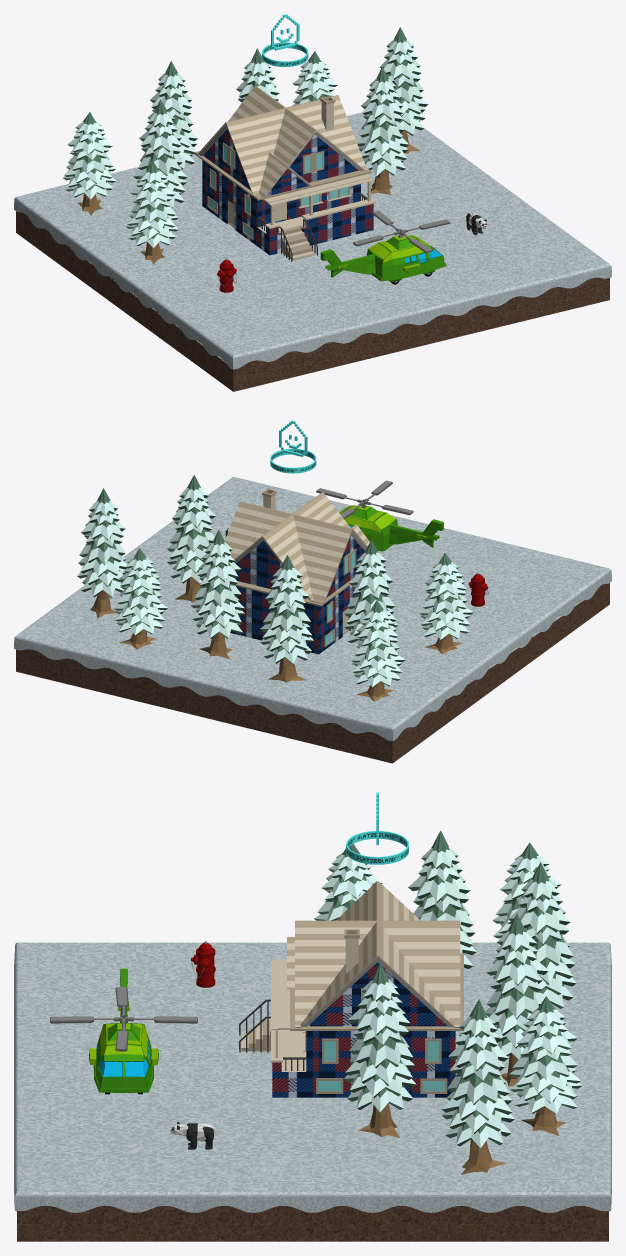
The picture shows the model from 3 angles, top to bottom: view 1: azimuth 30°, elevation 25°; view 2: azimuth 150°, elevation 25°; view 3: azimuth 270°, elevation 25°; orthographic projection. The views are drawn at different scales.
Parts seen in each view (by area): view 1: Cube.003, Cube.171, VEHICLES_HELICOPTER, TYPE_PREMIUM; view 2: Cube.003, Cube.171, VEHICLES_HELICOPTER, TYPE_PREMIUM, OBJRANDOM_FIRE_HYDRANT; view 3: Cube.003, Cube.171, VEHICLES_HELICOPTER, TYPE_PREMIUM, OBJRANDOM_FIRE_HYDRANT, ANIMAL_PANDA.
Boxes of the visible parts, x1,y1,x2,y2 form: Cube.003: (14, 27, 611, 391); Cube.171: (194, 85, 376, 261); VEHICLES_HELICOPTER: (320, 210, 450, 284); TYPE_PREMIUM: (262, 14, 308, 66); Cube.003: (14, 475, 611, 763); Cube.171: (225, 489, 388, 654); VEHICLES_HELICOPTER: (316, 480, 443, 551); TYPE_PREMIUM: (270, 420, 316, 473); OBJRANDOM_FIRE_HYDRANT: (468, 572, 488, 606); Cube.003: (14, 830, 611, 1241); Cube.171: (239, 881, 463, 1097); VEHICLES_HELICOPTER: (50, 968, 197, 1094); TYPE_PREMIUM: (346, 792, 408, 864); OBJRANDOM_FIRE_HYDRANT: (191, 941, 215, 987); ANIMAL_PANDA: (170, 1122, 214, 1149).
Size of the model in its own units: 4040 by 2445 by 4040.
32 materials, 5 textured.
